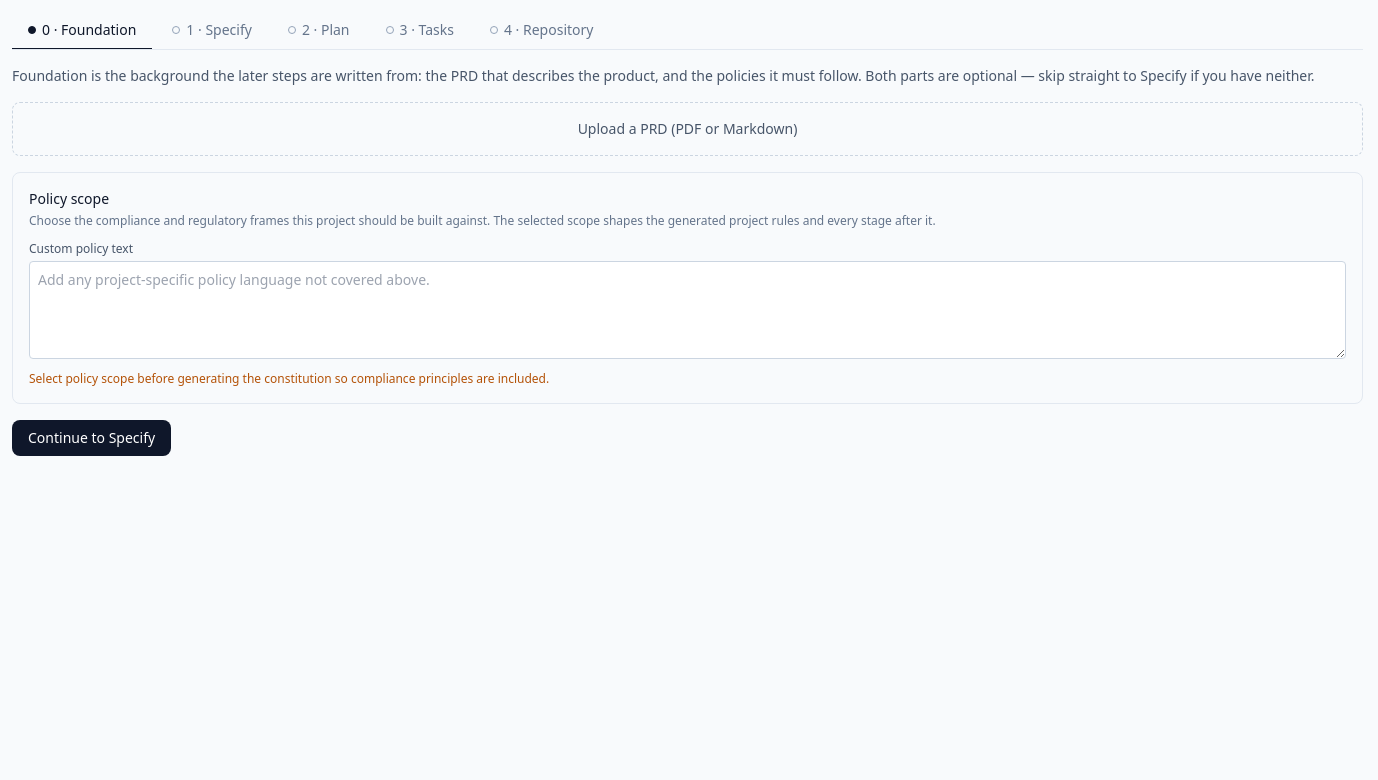
Test: Planner › blocks Generate tasks for a member until the plan exists, instead of 409-ing
Click the tab "3 · Tasks" at (420, 31), box [370,12,470,50]
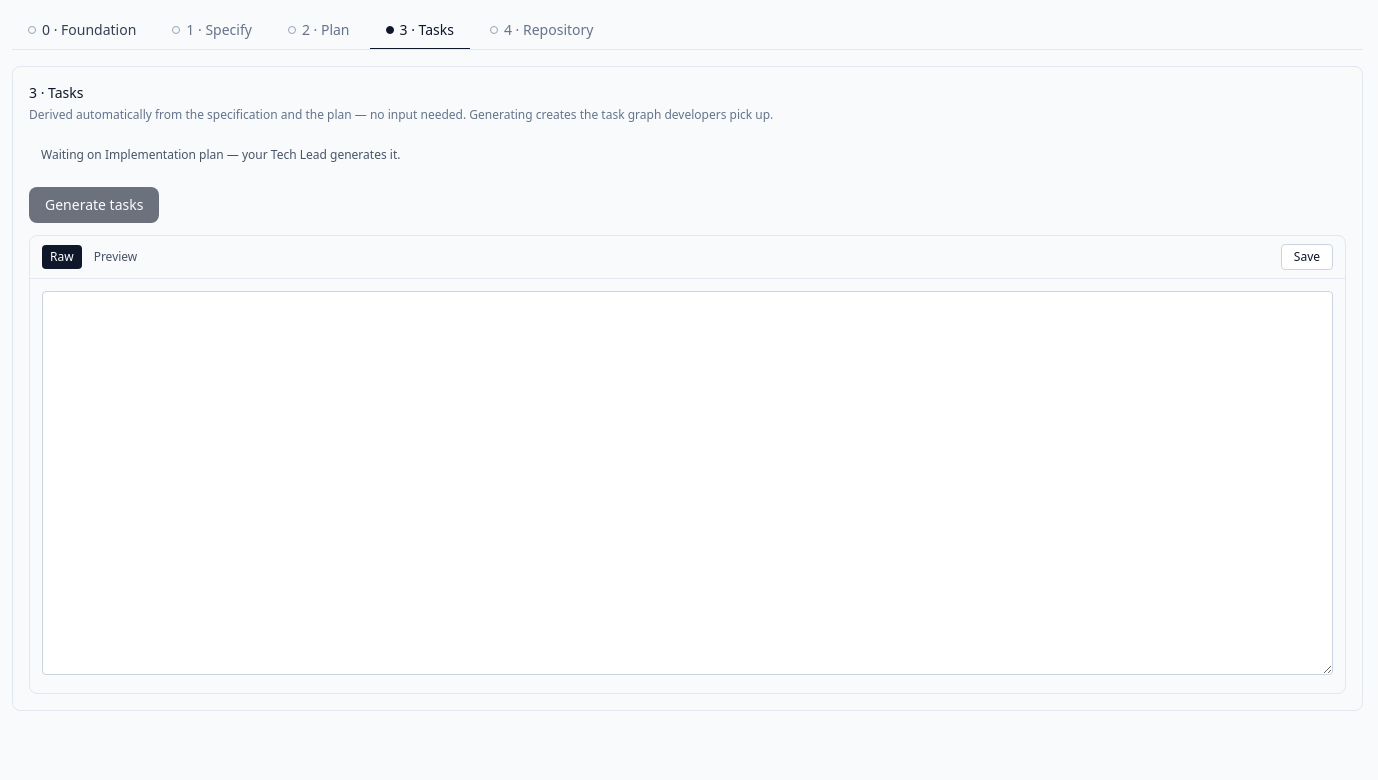
Check: the button "Generate tasks" is disabled, box [29,187,159,223]
Check: the text "your Tech Lead generates it" is shown, box [41,146,400,163]
